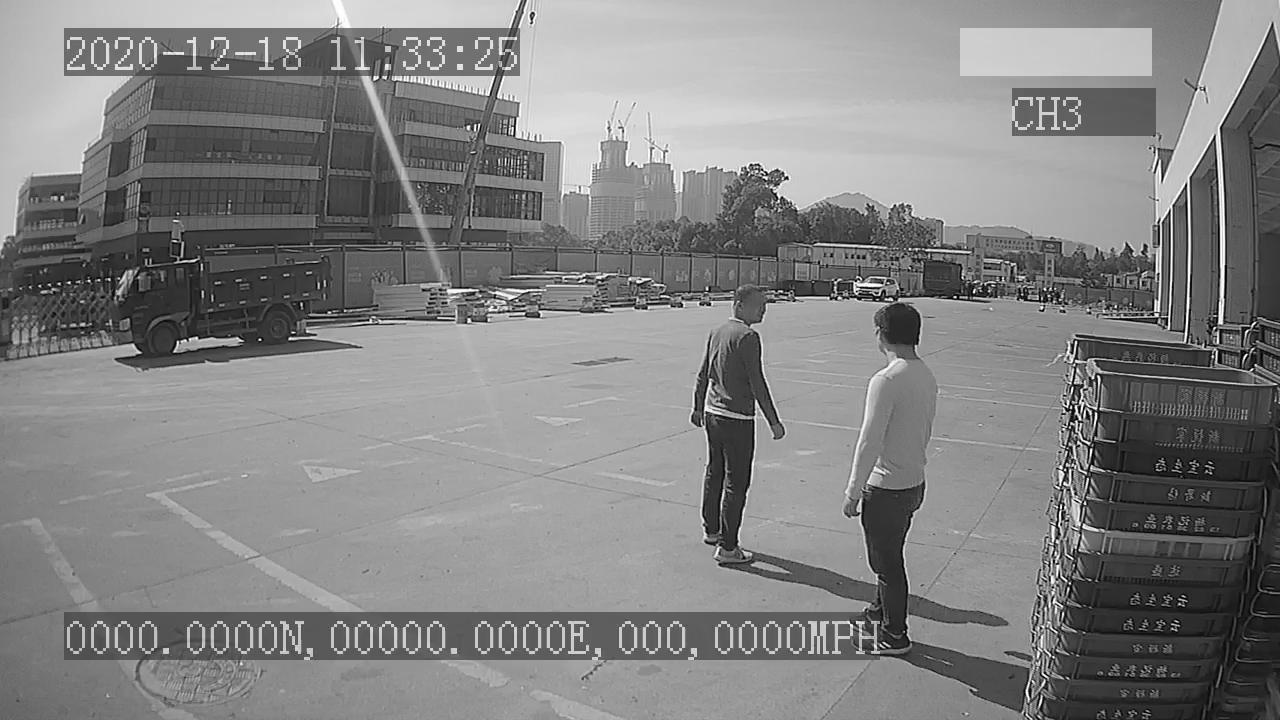person: (683, 280, 786, 567)
